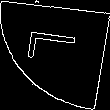L_E: (24, 36, 86, 74)
